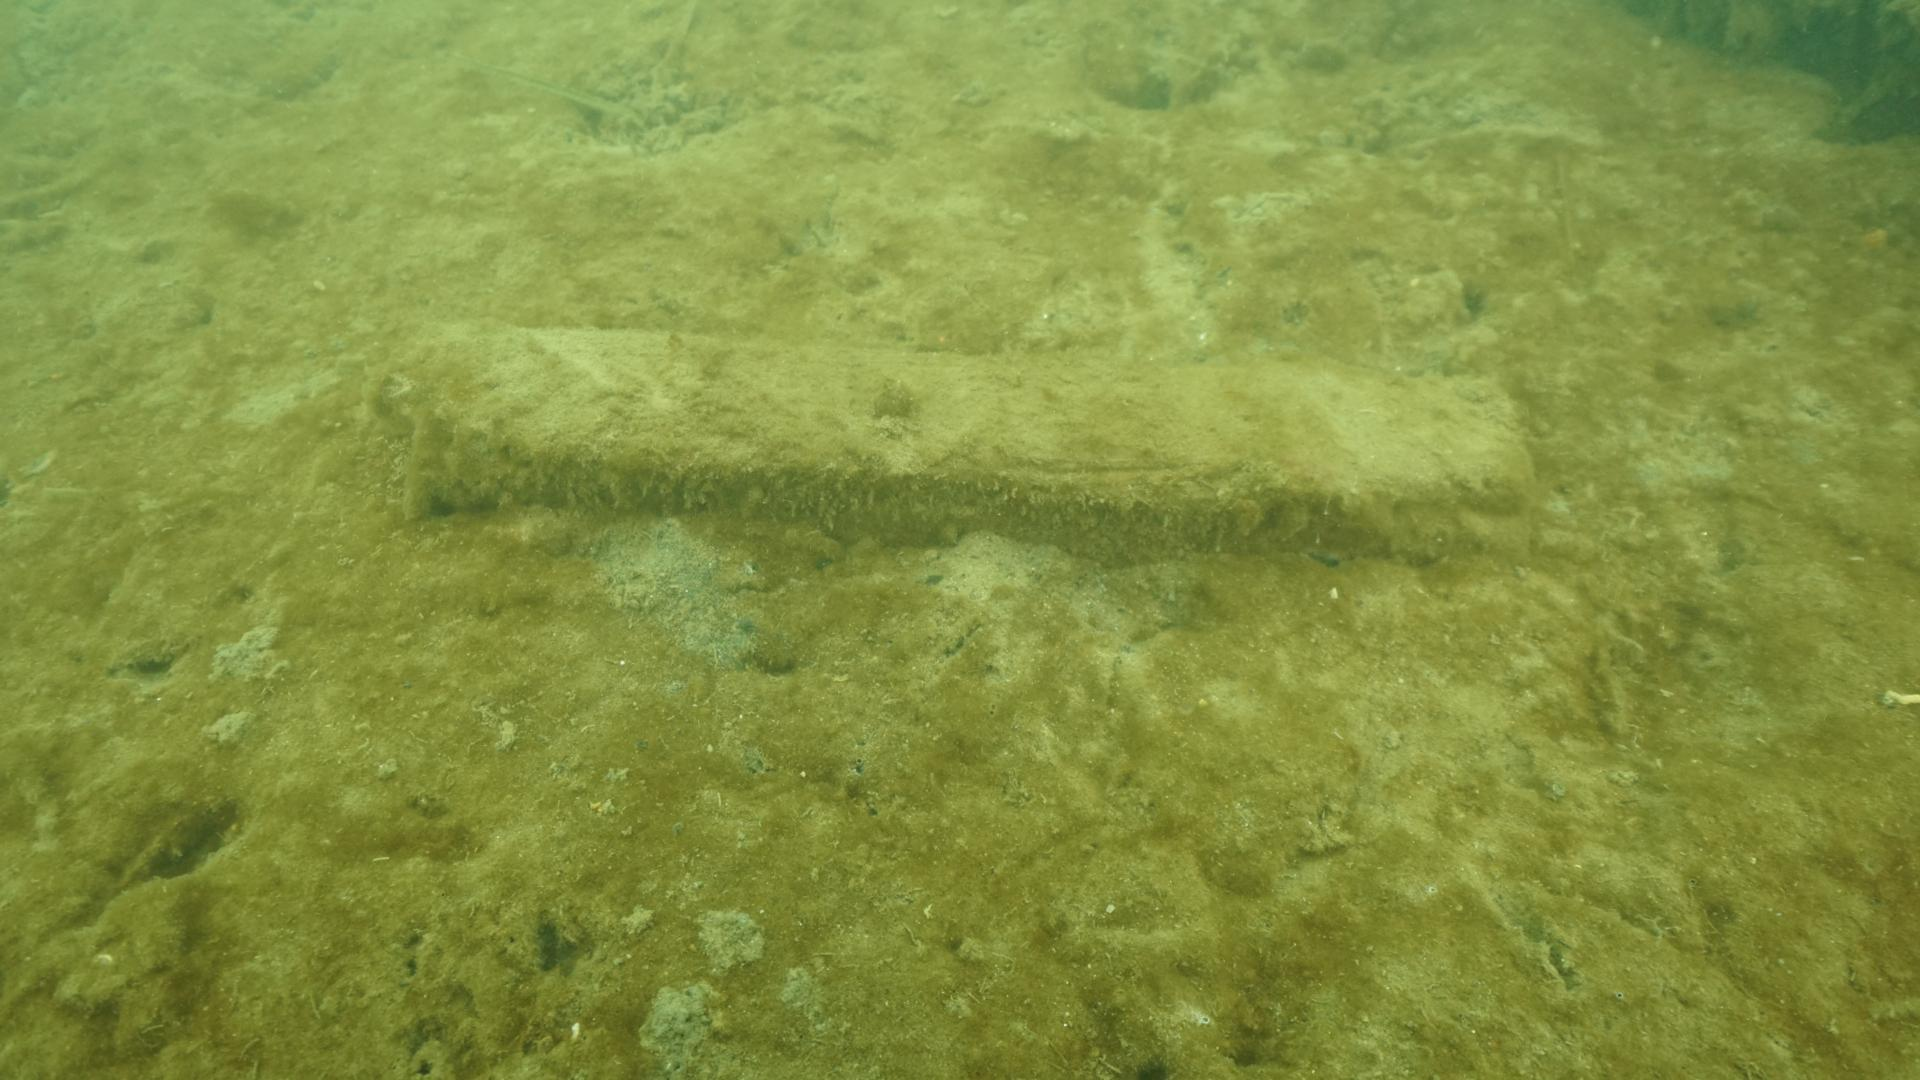wood: (368, 310, 1545, 549)
